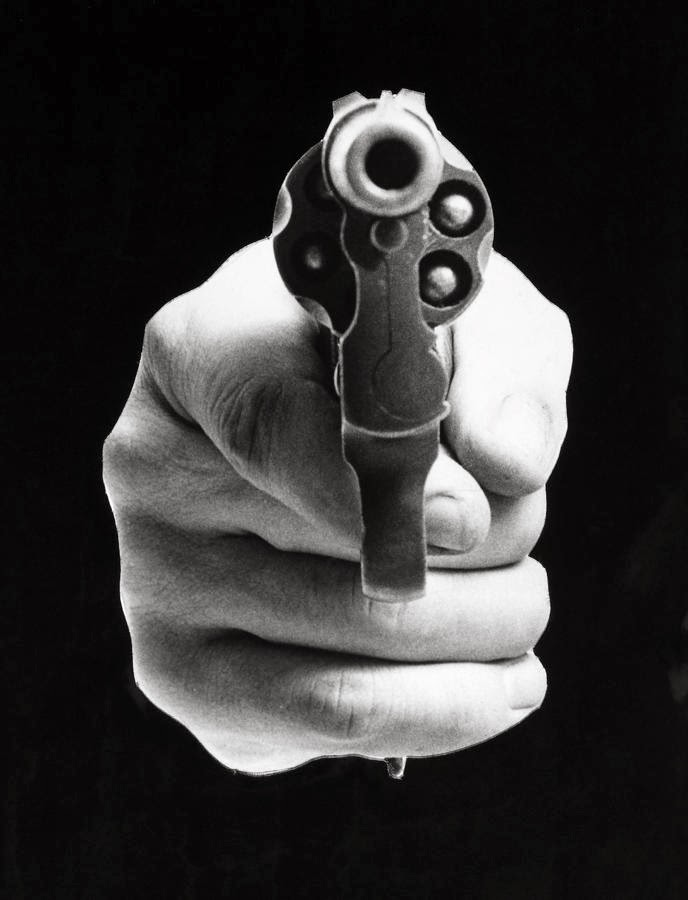Revolver: (219, 56, 608, 618)
